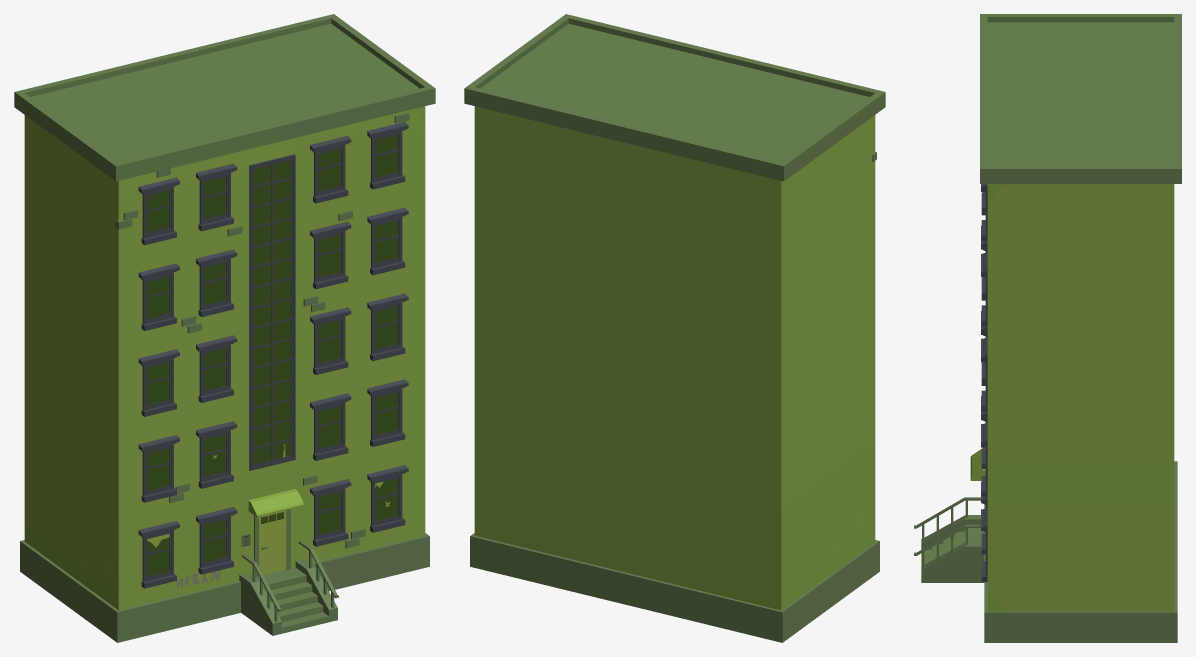
Rendered from OldHouse_01.fbx.
The picture shows the model from 3 angles, left to right: view 1: azimuth 30°, elevation 25°; view 2: azimuth 150°, elevation 25°; view 3: azimuth 270°, elevation 25°; orthographic projection.
Parts seen in each view (by area): view 1: OldHouse_01; view 2: OldHouse_01; view 3: OldHouse_01.
Boxes of the visible parts, box(x1,y1,x2,y2) form: OldHouse_01: box(14, 14, 435, 642); OldHouse_01: box(464, 14, 885, 642); OldHouse_01: box(914, 14, 1181, 642).
Bounding box in the file's own units: 10.94 × 15.68 × 8.
